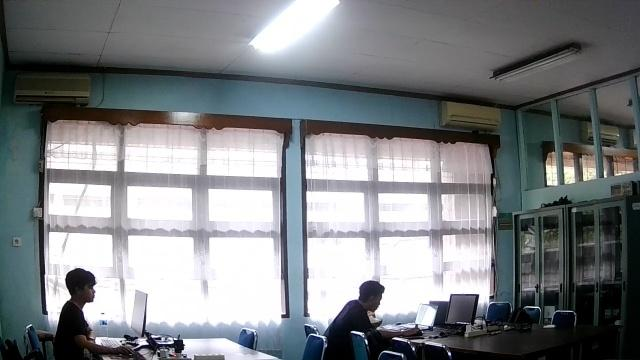AC: (11, 72, 91, 104), (438, 99, 501, 132)
Lemari: (565, 193, 628, 328), (511, 203, 566, 324)
